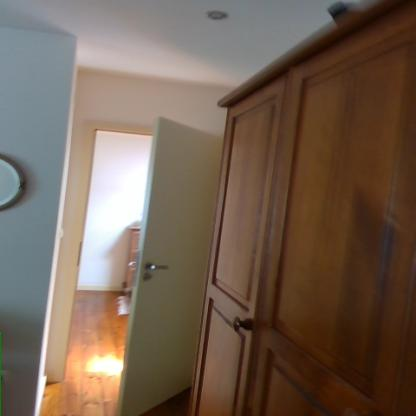semi: (45, 107, 247, 408)
